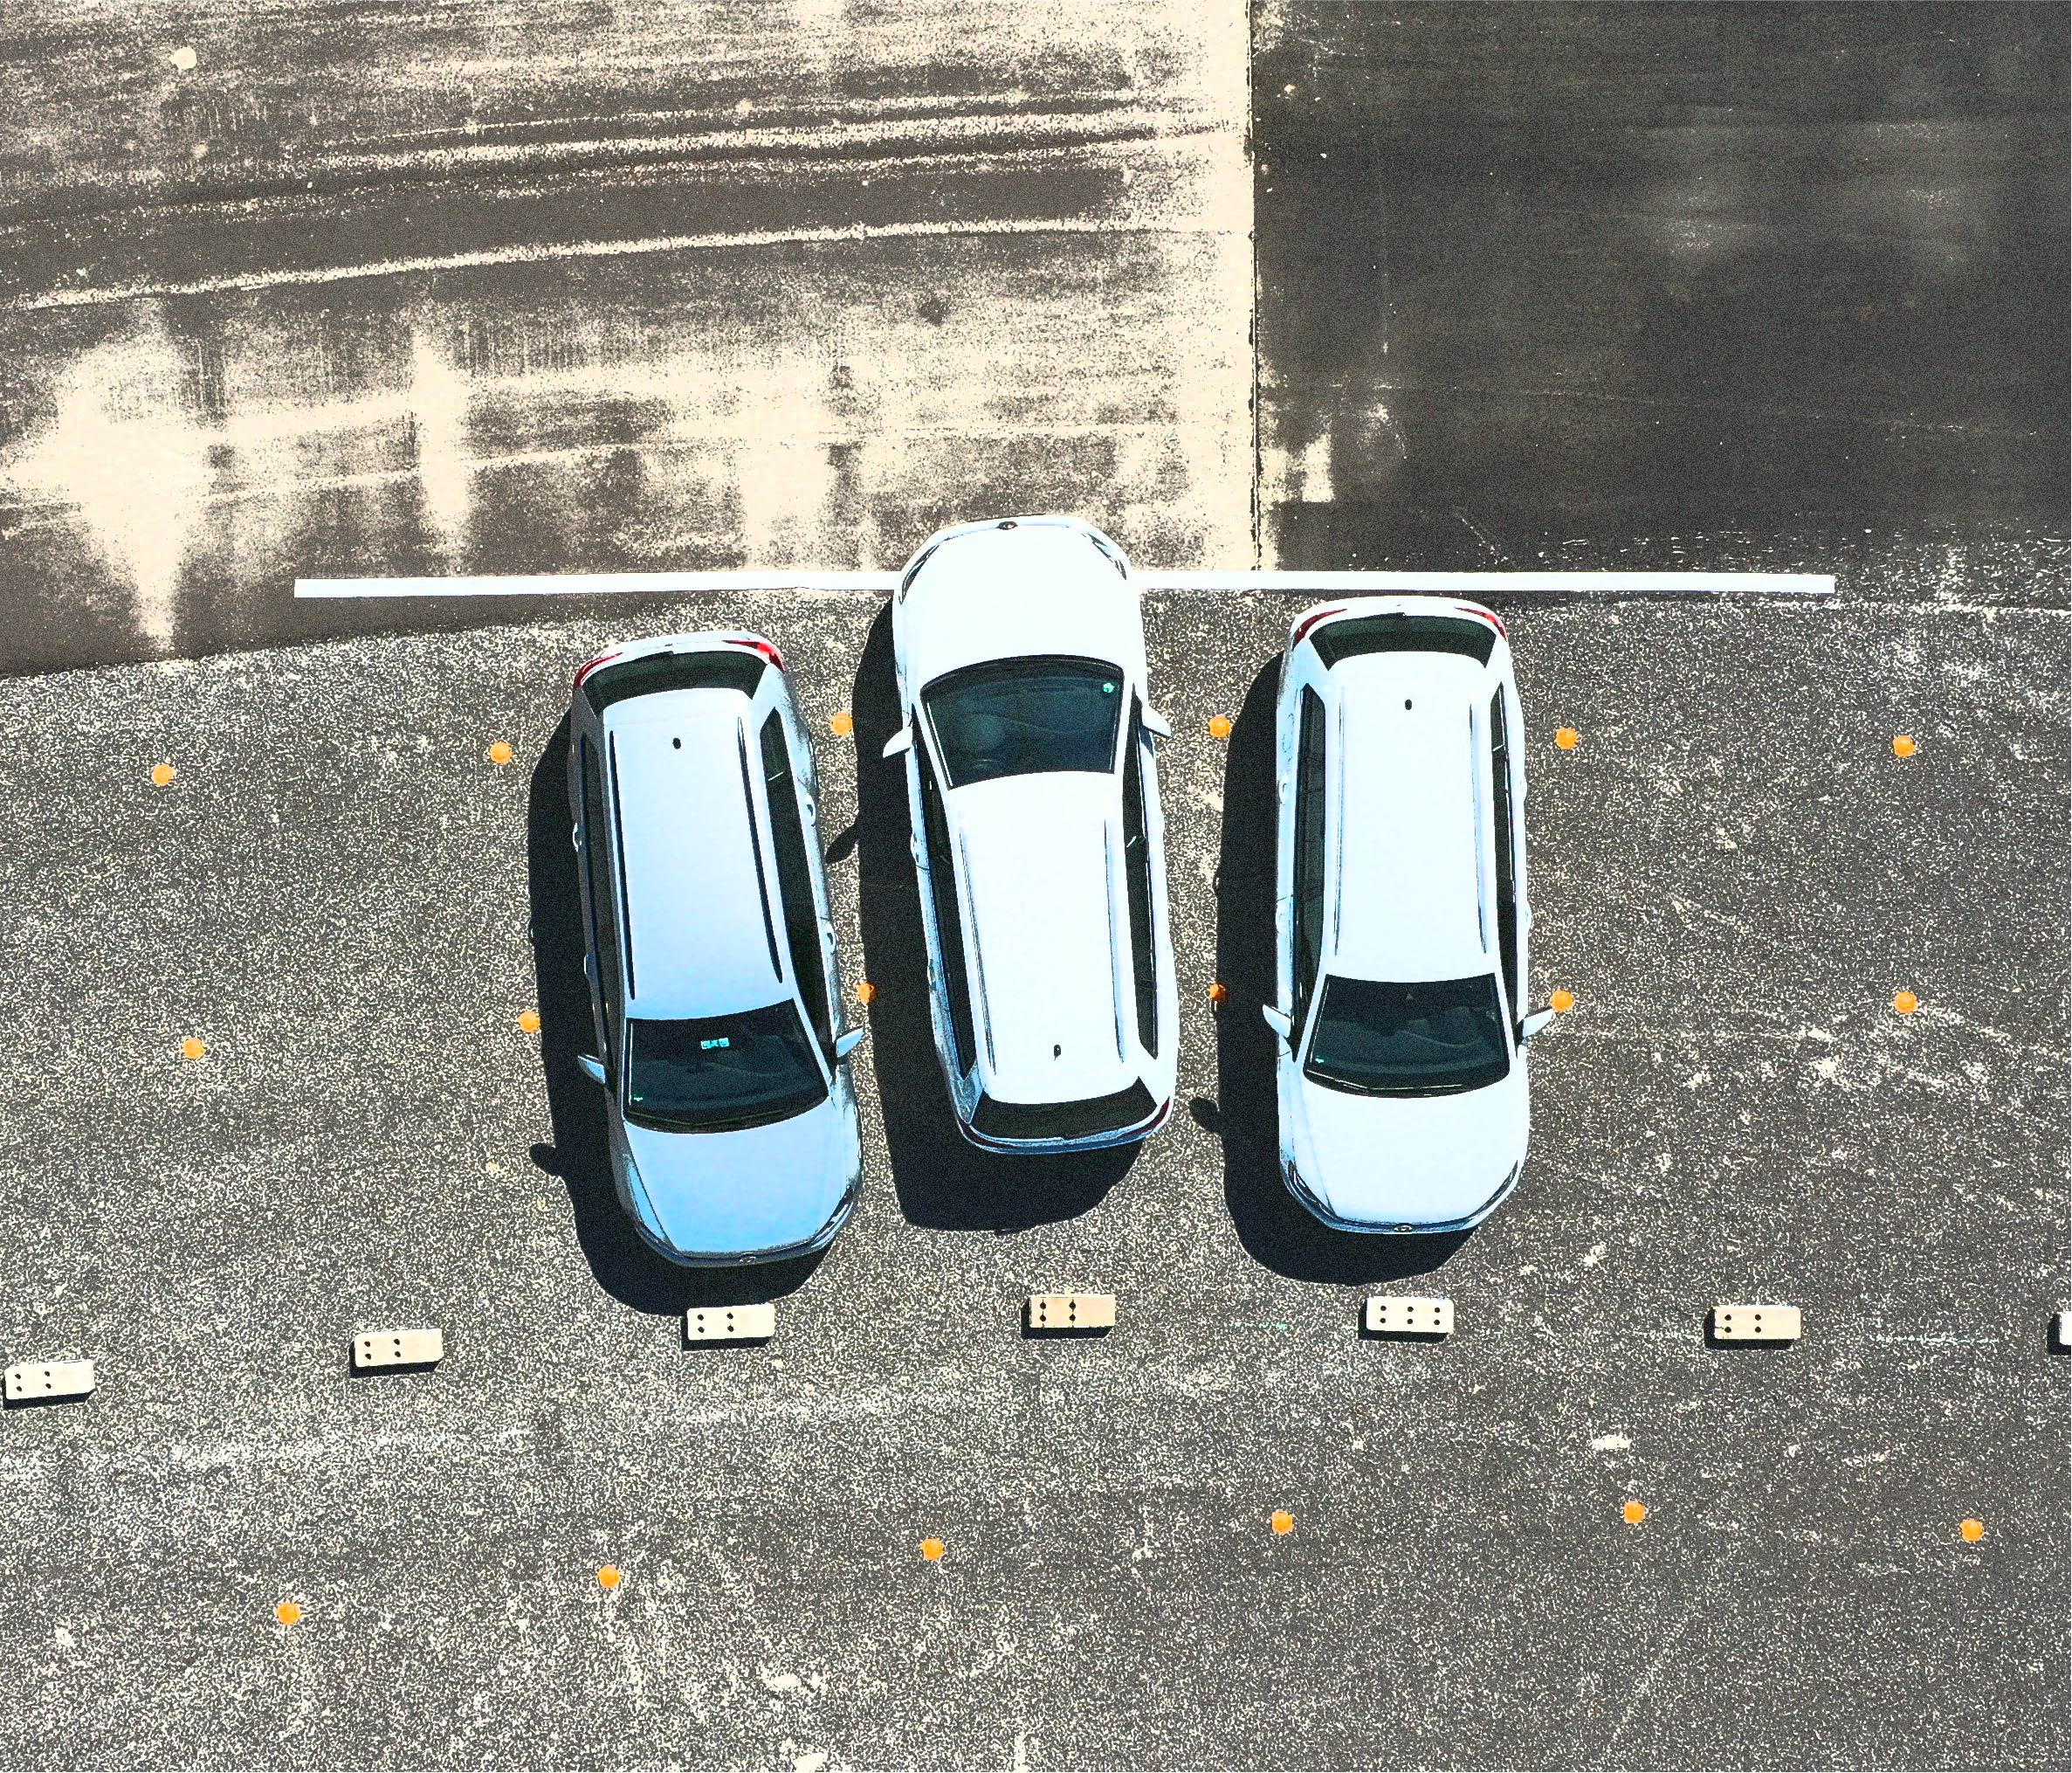Car: (1228, 580, 1571, 1268), (858, 505, 1194, 1205), (545, 621, 886, 1288)
LaneMark: (1142, 556, 1840, 602), (283, 561, 886, 612)
